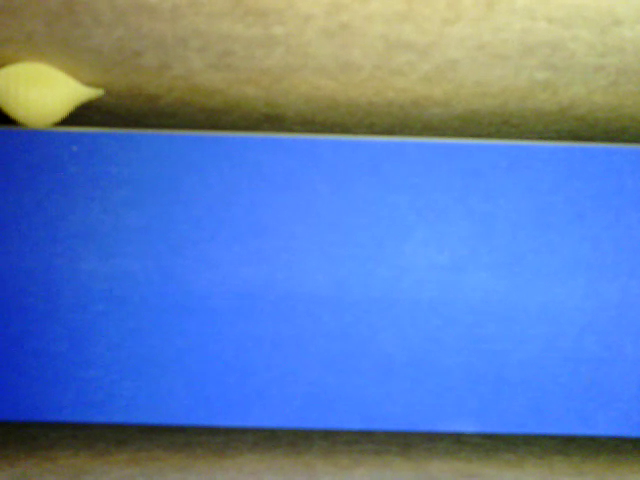shell: (1, 60, 105, 130)
